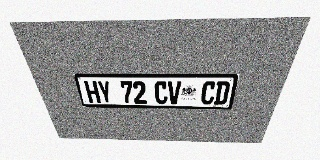2: (132, 81, 147, 104)
7: (119, 81, 134, 104)
C: (200, 81, 217, 105), (154, 81, 167, 104)
D: (213, 81, 231, 105)
H: (84, 81, 101, 103)
V: (168, 81, 181, 104)
Y: (96, 81, 113, 103)
